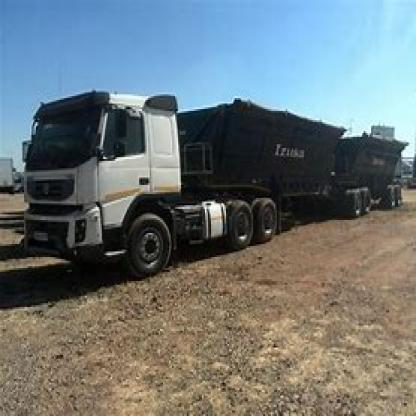dump_truck: (13, 81, 414, 281)
